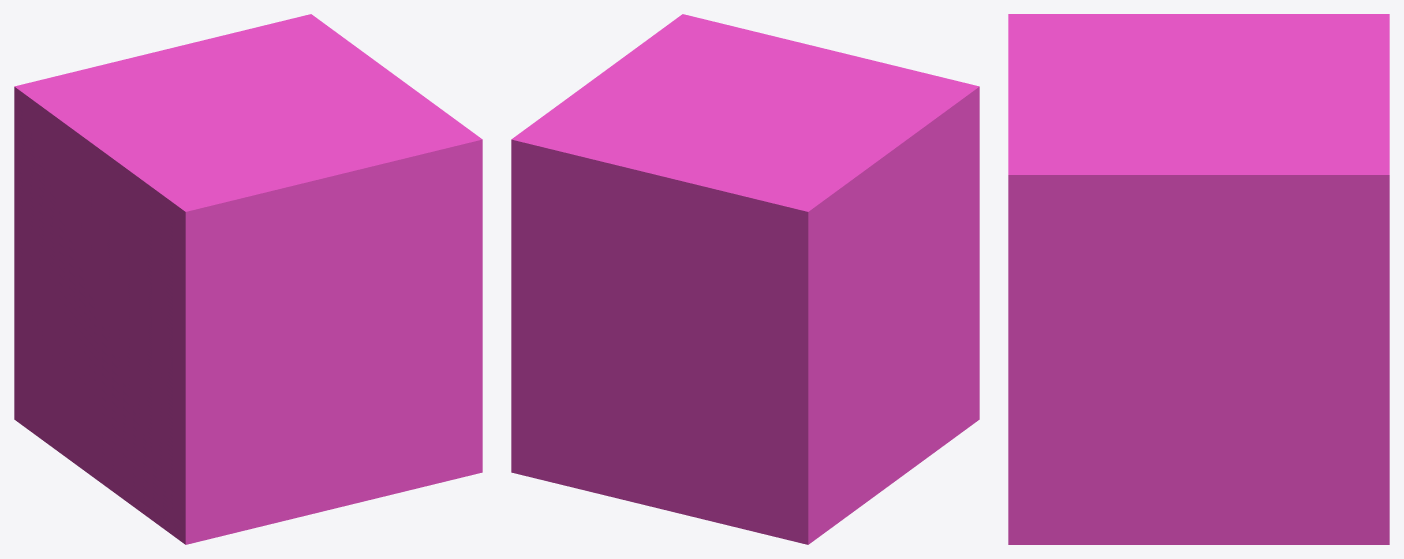
The model's file is laser_lvl03.glb.
3 renders of one model, left to right at view 1: azimuth 30°, elevation 25°; view 2: azimuth 150°, elevation 25°; view 3: azimuth 270°, elevation 25°, orthographic. The views are drawn at different scales.
Visible parts, largest first — view 1: COL_BOX_BODY; view 2: COL_BOX_BODY; view 3: COL_BOX_BODY.
Part boxes in pixels (left/top/right/bottom): COL_BOX_BODY: left=14, top=14, right=482, bottom=544; COL_BOX_BODY: left=511, top=14, right=979, bottom=544; COL_BOX_BODY: left=1008, top=14, right=1389, bottom=544.
Bounding box in the file's own units: 1.4 × 1.5 × 1.4.
